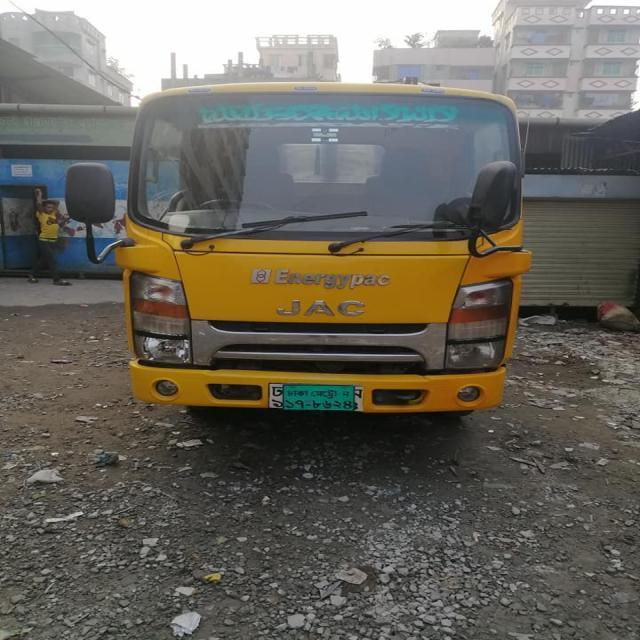numberplate: (275, 382, 356, 412)
